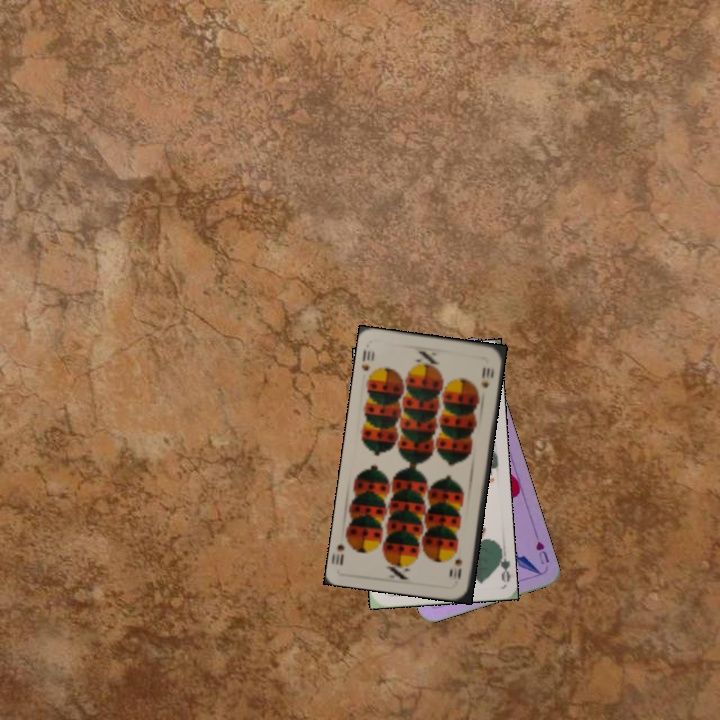GO: (492, 543, 512, 583)
HU: (532, 537, 552, 567)
S10: (357, 346, 377, 373), (450, 553, 465, 582)
